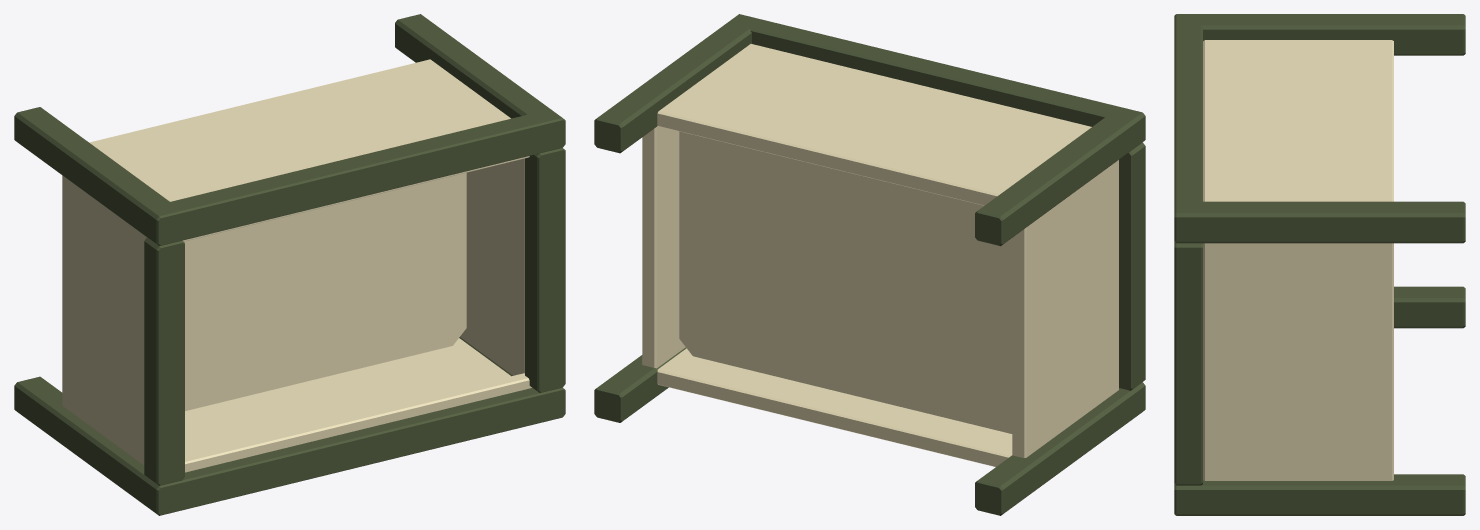
File: fixture_04_promotion_bin.glb
The picture shows the model from 3 angles, left to right: view 1: azimuth 30°, elevation 25°; view 2: azimuth 150°, elevation 25°; view 3: azimuth 270°, elevation 25°; orthographic projection.
Visible parts, largest first — view 1: fixture_04_promotion_bin; view 2: fixture_04_promotion_bin; view 3: fixture_04_promotion_bin.
Part boxes in pixels (bbox=[...]): fixture_04_promotion_bin: bbox=[14, 14, 565, 515]; fixture_04_promotion_bin: bbox=[594, 14, 1145, 515]; fixture_04_promotion_bin: bbox=[1174, 14, 1465, 515].
Size of what is drawn, in the model's own units: 1 by 0.7 by 0.61.
